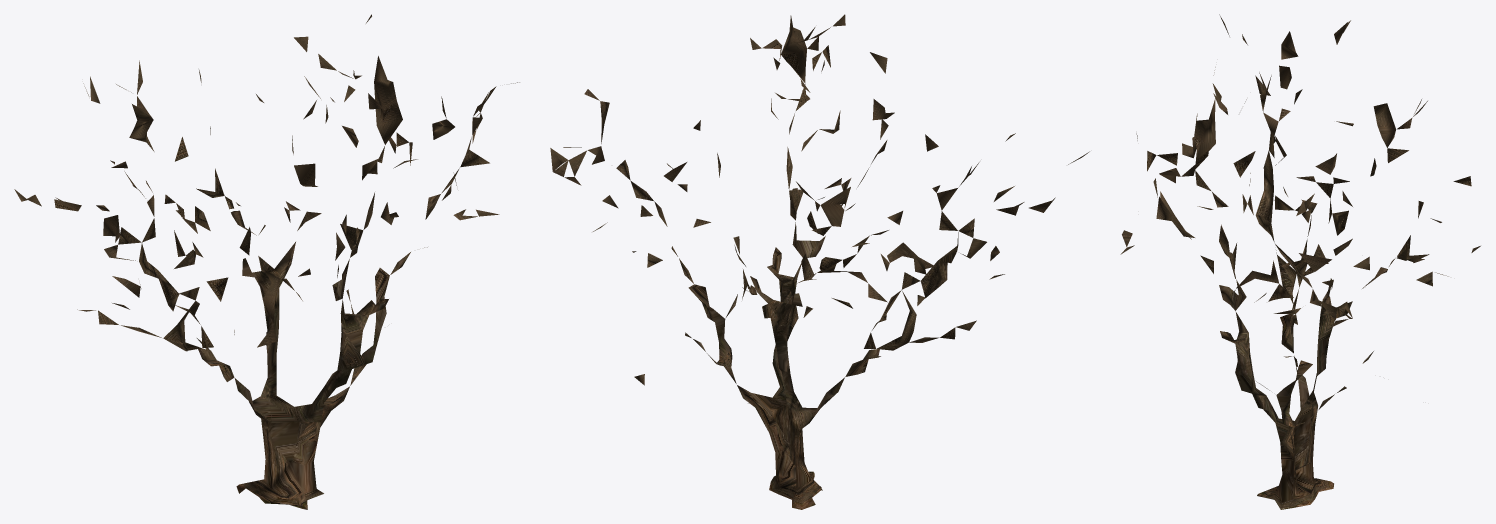
Rendered from jacaranda_L1_madera.glb.
3 views of the same model, side by side, from view 1: azimuth 30°, elevation 25°; view 2: azimuth 150°, elevation 25°; view 3: azimuth 270°, elevation 25° (orthographic). The views are drawn at different scales.
Parts seen in each view (by area): view 1: jacaranda_tree_LOD0; view 2: jacaranda_tree_LOD0; view 3: jacaranda_tree_LOD0.
Boxes of the visible parts, x1,y1,x2,y2 form: jacaranda_tree_LOD0: (14, 14, 519, 509); jacaranda_tree_LOD0: (550, 14, 1089, 509); jacaranda_tree_LOD0: (1120, 14, 1480, 509).
Size of the model in its own units: 19.09 by 17.15 by 12.95.
2 materials, 2 textured.
